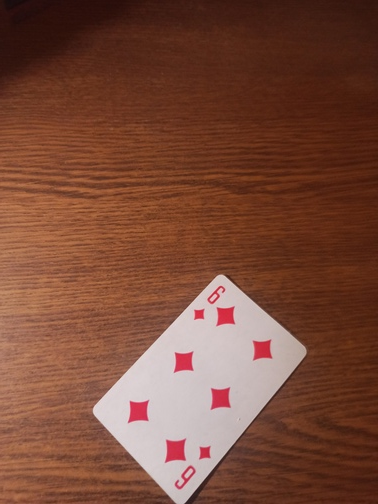sixdiamonds: (91, 274, 306, 504)
